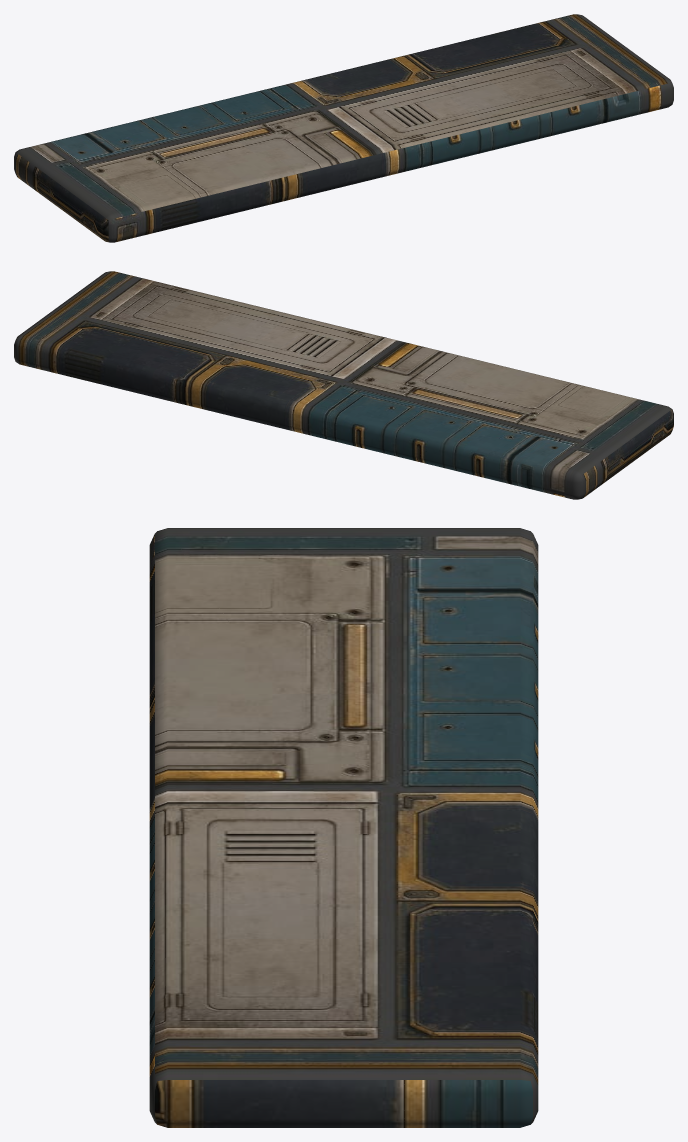
The model's file is hp_room_residential_ceiling_softbox.glb.
The picture shows the model from 3 angles, top to bottom: view 1: azimuth 30°, elevation 25°; view 2: azimuth 150°, elevation 25°; view 3: azimuth 270°, elevation 25°; orthographic projection. The views are drawn at different scales.
Visible parts, largest first — view 1: softbox_dark_upper_housing; view 2: softbox_dark_upper_housing; view 3: softbox_dark_upper_housing.
Part boxes in pixels (left/top/right/bottom): softbox_dark_upper_housing: left=14, top=14, right=673, bottom=242; softbox_dark_upper_housing: left=14, top=271, right=673, bottom=499; softbox_dark_upper_housing: left=149, top=528, right=538, bottom=1127.
Size of the model in its own units: 3.81 by 0.1846 by 1.13.
Materials: 5 (2 with a texture image).
